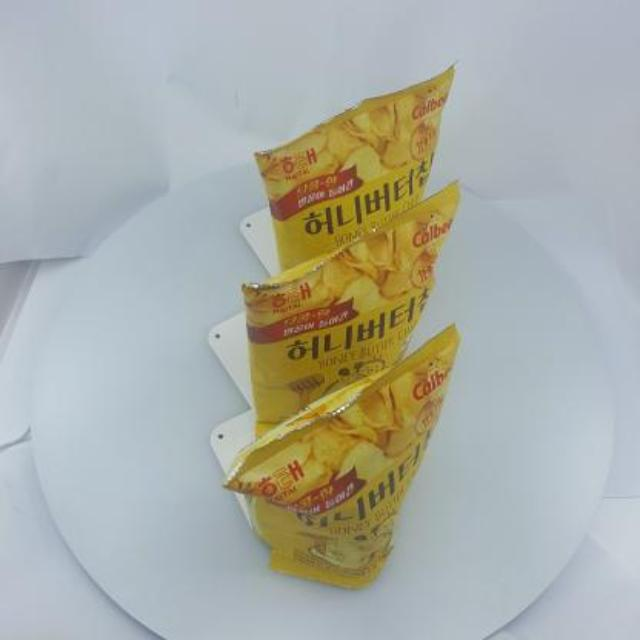snack_bag: (222, 51, 470, 597)
